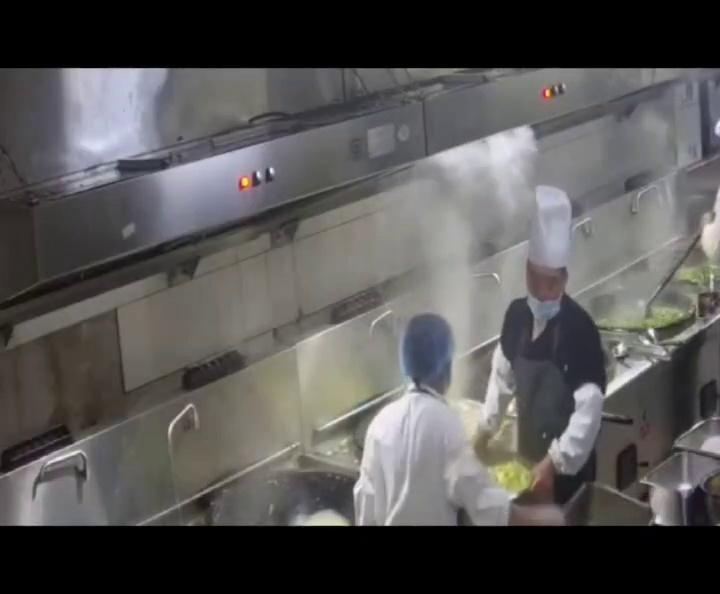mask: (528, 276, 558, 316)
